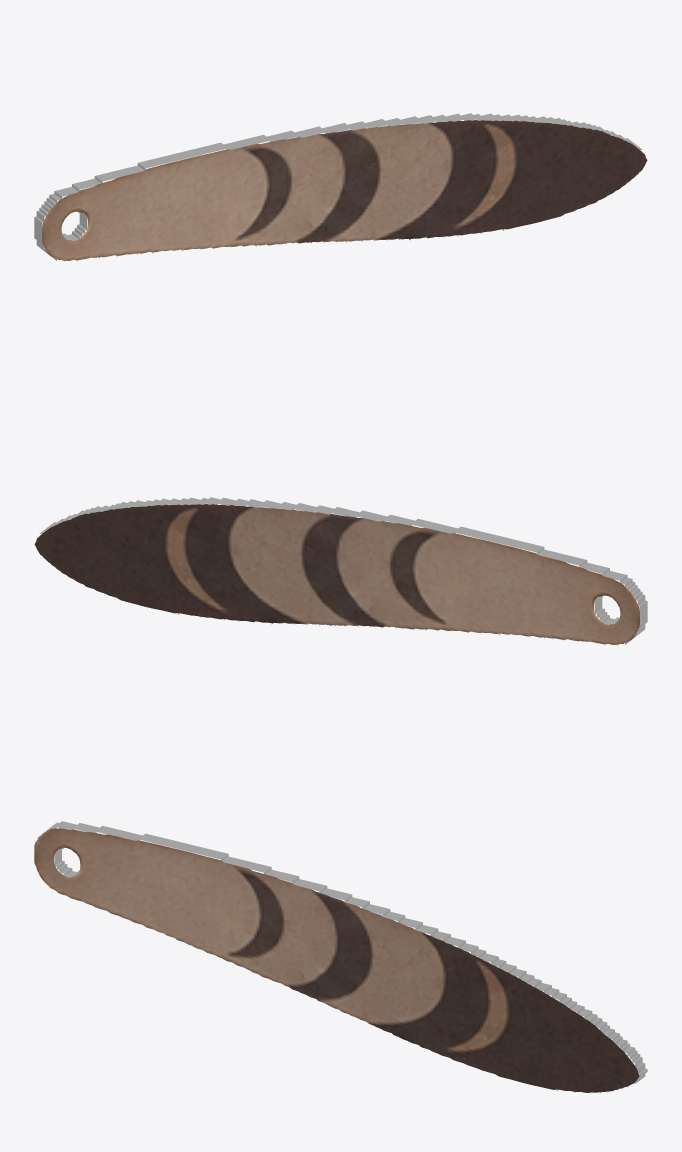
Rendered from FlightRight02.glb.
The picture shows the model from 3 angles, top to bottom: view 1: azimuth 30°, elevation 25°; view 2: azimuth 150°, elevation 25°; view 3: azimuth 330°, elevation 25°; orthographic projection.
Parts seen in each view (by area): view 1: PaperVolume; view 2: PaperVolume; view 3: PaperVolume.
Boxes of the visible parts, x1,y1,x2,y2 form: PaperVolume: (34,113,647,261); PaperVolume: (34,497,647,645); PaperVolume: (34,821,647,1093).
Bounding box in the file's own units: 3.84 × 1.09 × 0.08.
3 materials, 2 textured.
